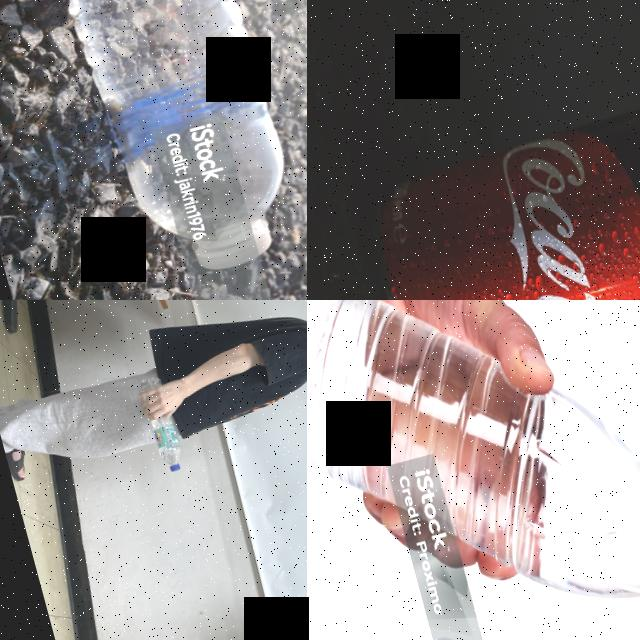bottle: (307, 300, 640, 640), (26, 0, 306, 296), (131, 372, 188, 476)
can: (354, 81, 640, 300)
